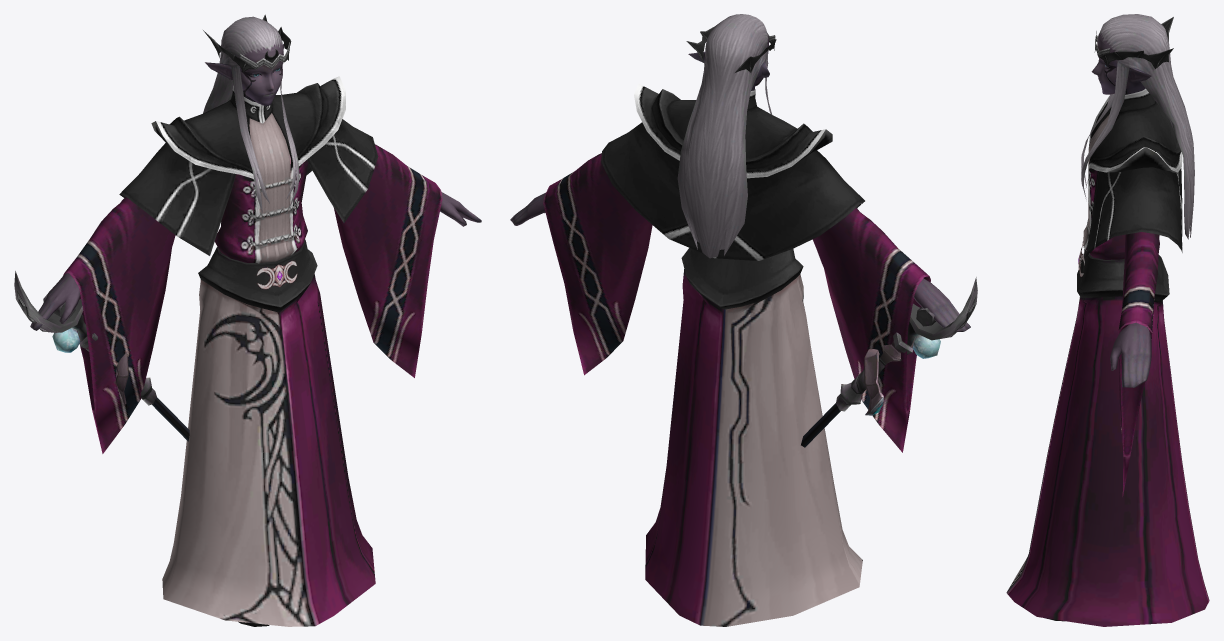
File: monster__dark_elf__mage__vari02_kings_raid.glb
The picture shows the model from 3 angles, left to right: view 1: azimuth 30°, elevation 25°; view 2: azimuth 150°, elevation 25°; view 3: azimuth 270°, elevation 25°; orthographic projection. The views are drawn at different scales.
Parts seen in each view (by area): view 1: Monster_DarkElf_Mage_Vari02_Body_0, Monster_DarkElf_Mage_Vari02_Body_2, Monster_DarkElf_Mage_Vari02_Body_1; view 2: Monster_DarkElf_Mage_Vari02_Body_0, Monster_DarkElf_Mage_Vari02_Body_2, Monster_DarkElf_Mage_Vari02_Body_1; view 3: Monster_DarkElf_Mage_Vari02_Body_0, Monster_DarkElf_Mage_Vari02_Body_2, Monster_DarkElf_Mage_Vari02_Body_1.
Boxes of the visible parts, left/top/right/bottom form: Monster_DarkElf_Mage_Vari02_Body_0: left=63, top=42, right=442, bottom=626; Monster_DarkElf_Mage_Vari02_Body_2: left=30, top=16, right=481, bottom=330; Monster_DarkElf_Mage_Vari02_Body_1: left=14, top=14, right=297, bottom=441; Monster_DarkElf_Mage_Vari02_Body_0: left=543, top=33, right=930, bottom=626; Monster_DarkElf_Mage_Vari02_Body_2: left=510, top=14, right=970, bottom=331; Monster_DarkElf_Mage_Vari02_Body_1: left=686, top=26, right=977, bottom=447; Monster_DarkElf_Mage_Vari02_Body_0: left=1006, top=31, right=1209, bottom=626; Monster_DarkElf_Mage_Vari02_Body_2: left=1081, top=14, right=1194, bottom=387; Monster_DarkElf_Mage_Vari02_Body_1: left=1078, top=17, right=1173, bottom=277.
Bounding box in the file's own units: 1.54 × 1.82 × 0.5745.
Materials: 1 (1 with a texture image).
